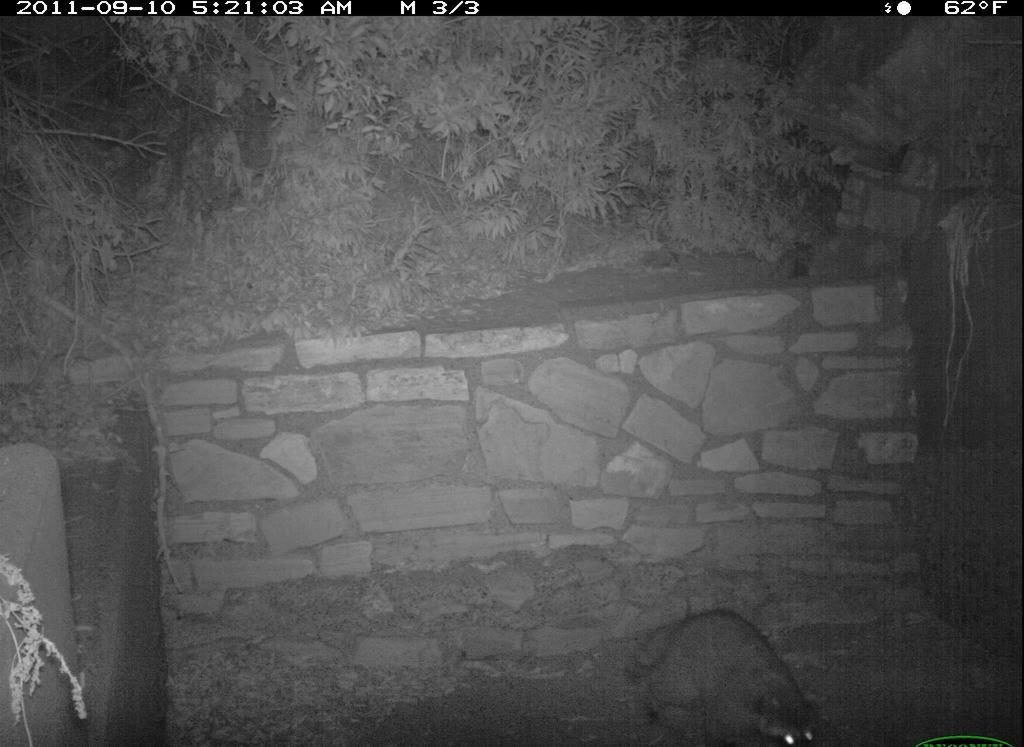raccoon: (634, 610, 822, 747)
